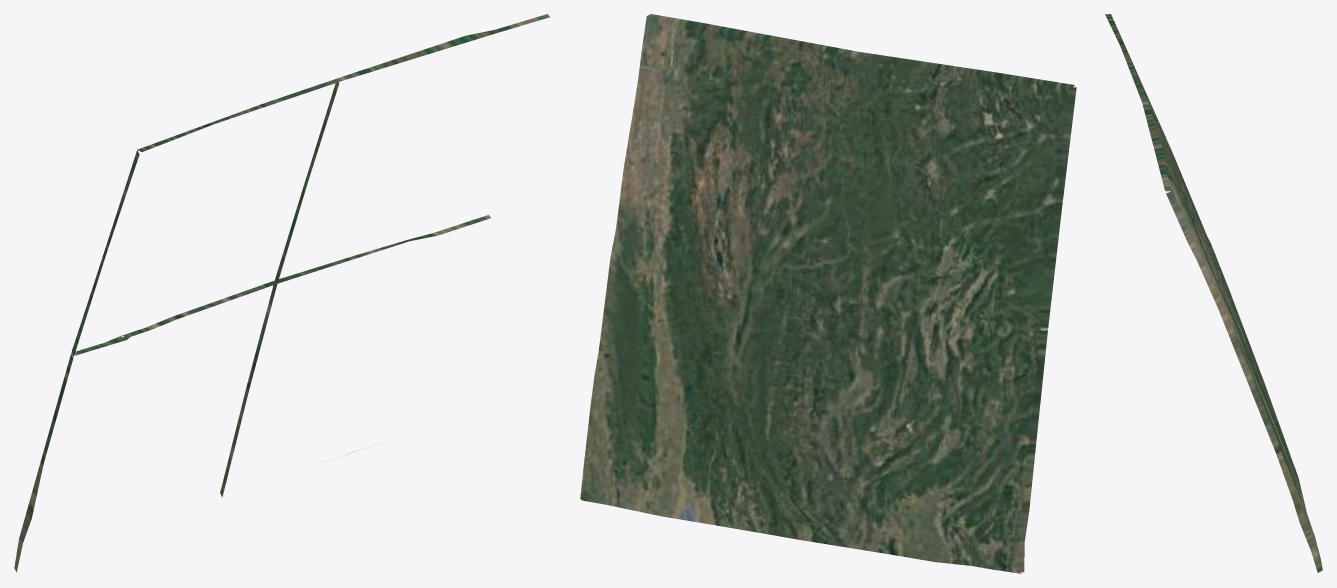
3 renders of one model, left to right at view 1: azimuth 30°, elevation 25°; view 2: azimuth 150°, elevation 25°; view 3: azimuth 270°, elevation 25°, orthographic. The views are drawn at different scales.
Bounding box in the file's own units: 620072 × 595460 × 300144.
1 material, 1 textured.
